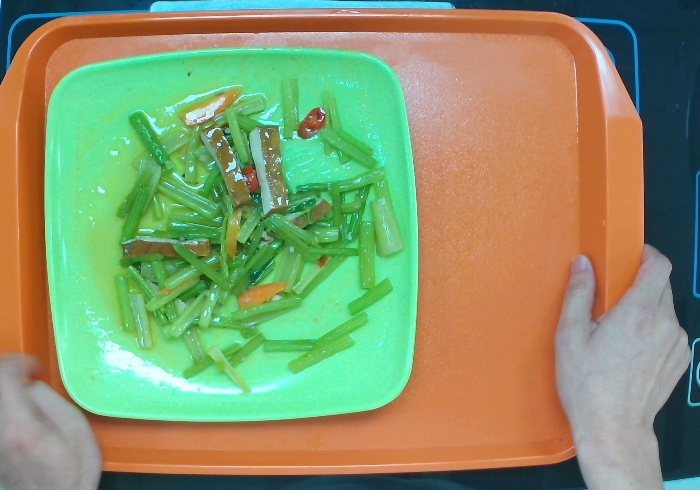ZNLD-Lv_Fang_Pan: (37, 34, 427, 436)
